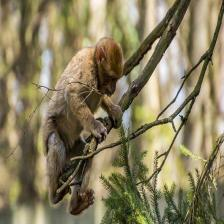monkey: (38, 35, 125, 211)
